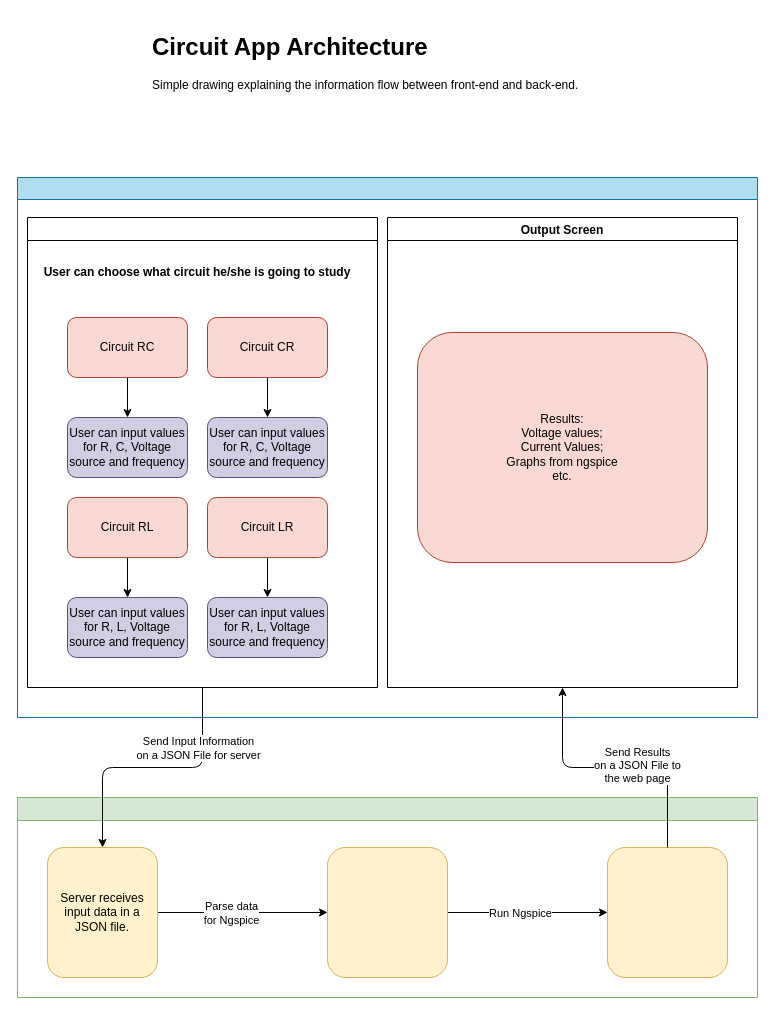
Some shapes in this 775 by 1015 pixel diagram are drawn without their labels. Here are the shapes that lost their labels. From the top down, the box of each, then its label:
(26, 216, 378, 688): Input Screen
(16, 176, 758, 718): Web Page (Front-End)
(16, 796, 758, 998): Server (Back-End)
(326, 846, 448, 978): Ngspice receives data parsed (netlist with values)
(606, 846, 728, 978): Ngspice run netlist and obtain results
